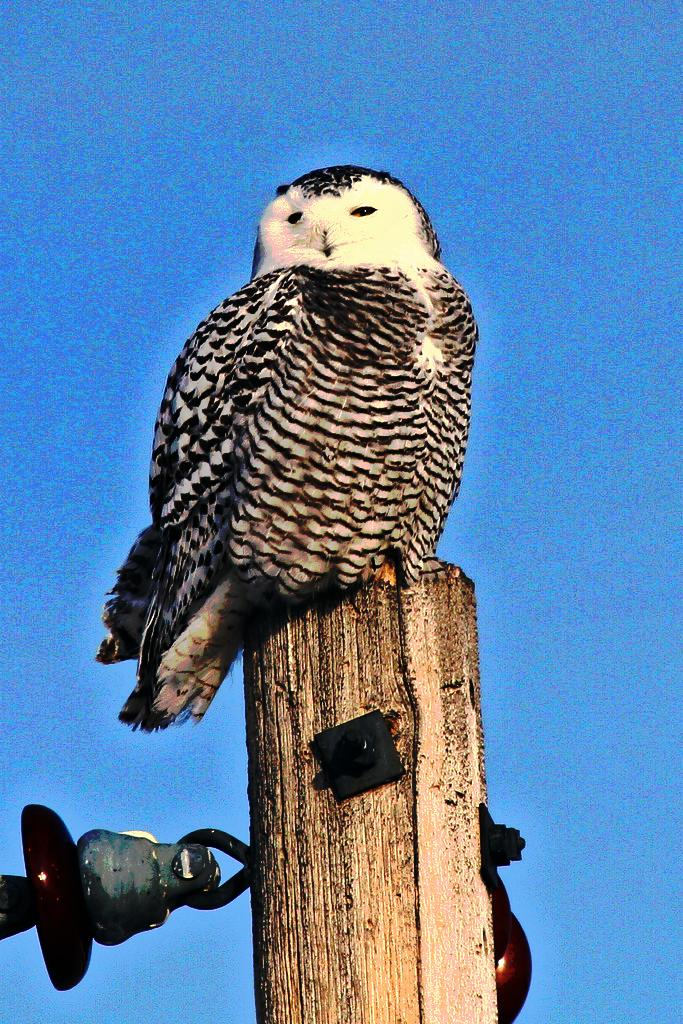Owl: (95, 173, 480, 738)
